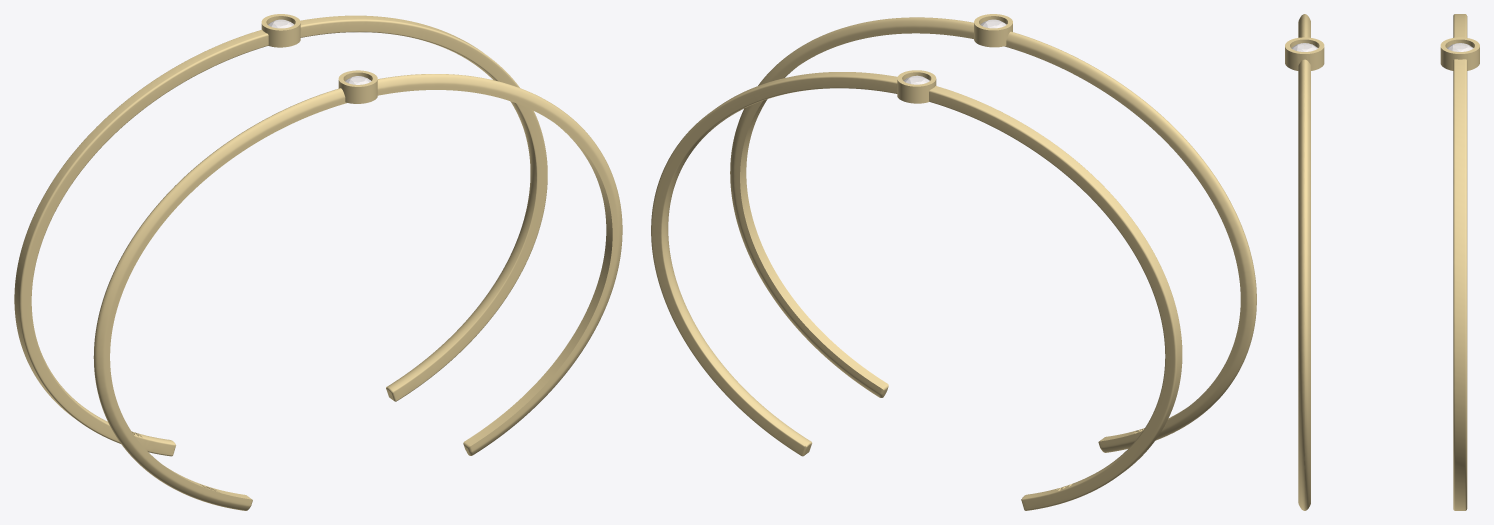
File: bangle.glb
3 views of the same model, side by side, from view 1: azimuth 30°, elevation 25°; view 2: azimuth 150°, elevation 25°; view 3: azimuth 270°, elevation 25° (orthographic).
Parts seen in each view (by area): view 1: Object_3_WhiteMetal_0, Object_2_WhiteMetal_0; view 2: Object_3_WhiteMetal_0, Object_2_WhiteMetal_0; view 3: Object_3_WhiteMetal_0, Object_2_WhiteMetal_0.
Boxes of the visible parts, bbox=[...] form: Object_3_WhiteMetal_0: bbox=[14, 14, 547, 456]; Object_2_WhiteMetal_0: bbox=[93, 70, 622, 510]; Object_3_WhiteMetal_0: bbox=[651, 70, 1182, 510]; Object_2_WhiteMetal_0: bbox=[730, 14, 1256, 452]; Object_3_WhiteMetal_0: bbox=[1440, 14, 1479, 510]; Object_2_WhiteMetal_0: bbox=[1285, 14, 1324, 510].
Bounding box in the file's own units: 62.29 × 45.64 × 19.75.
